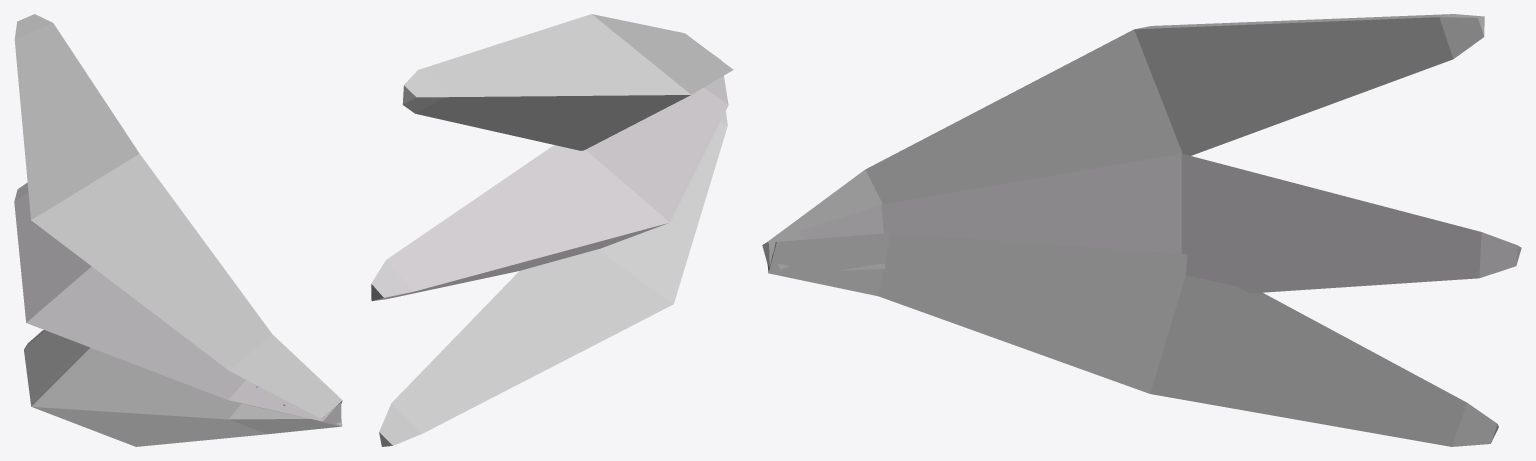
File: Bananatri.fbx
3 views of the same model, side by side, from view 1: azimuth 30°, elevation 25°; view 2: azimuth 150°, elevation 25°; view 3: azimuth 270°, elevation 25° (orthographic). The views are drawn at different scales.
Parts seen in each view (by area): view 1: node_id36, node_id4, node_id34; view 2: node_id4, node_id34, node_id36; view 3: node_id34, node_id36, node_id4.
Part boxes in pixels (left/top/right/bottom): node_id36: left=14, top=14, right=342, bottom=418; node_id4: left=14, top=182, right=341, bottom=426; node_id34: left=24, top=330, right=342, bottom=446; node_id4: left=371, top=54, right=728, bottom=301; node_id34: left=379, top=111, right=727, bottom=446; node_id36: left=402, top=14, right=733, bottom=150; node_id34: left=767, top=233, right=1498, bottom=446; node_id36: left=767, top=14, right=1484, bottom=269; node_id4: left=762, top=153, right=1521, bottom=293.
Bounding box in the file's own units: 0.5413 × 1.16 × 1.89.
2 materials, 1 textured.
